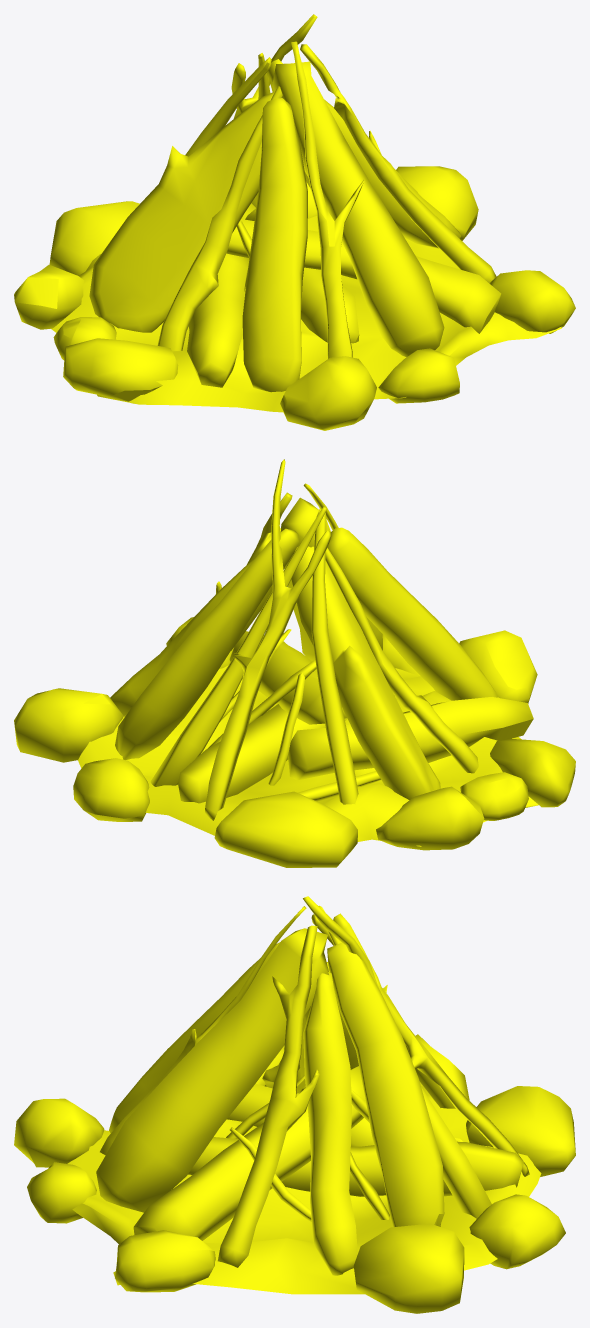
The model's file is fog.obj.
3 renders of one model, top to bottom at view 1: azimuth 30°, elevation 25°; view 2: azimuth 150°, elevation 25°; view 3: azimuth 270°, elevation 25°, orthographic. The views are drawn at different scales.
Parts seen in each view (by area): view 1: Campfire; view 2: Campfire; view 3: Campfire.
Boxes of the visible parts, box(x1,y1,x2,y2) form: Campfire: box(14, 14, 575, 430); Campfire: box(14, 459, 575, 867); Campfire: box(14, 896, 575, 1313).
Bounding box in the file's own units: 97.99 × 60.11 × 94.05.
